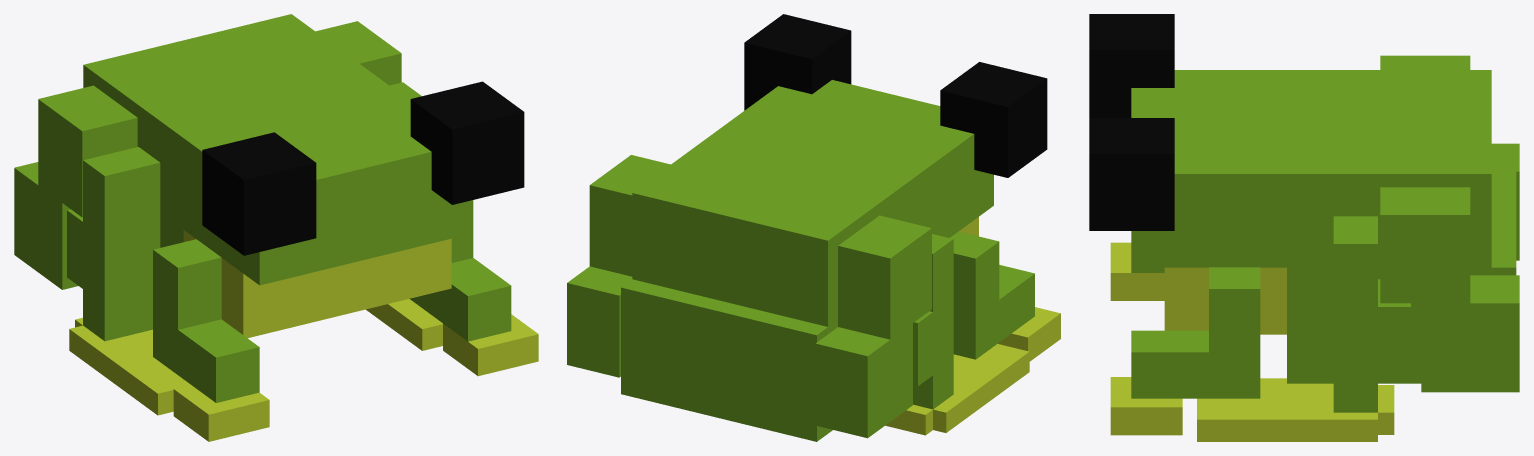
The model's file is frog.FBX.
The picture shows the model from 3 angles, left to right: view 1: azimuth 30°, elevation 25°; view 2: azimuth 150°, elevation 25°; view 3: azimuth 270°, elevation 25°; orthographic projection. The views are drawn at different scales.
Parts seen in each view (by area): view 1: frog_body, frog_eyes, frog_calf_L001, frog_hand_L001, frog_thigh_L001, frog_hand_L, frog_thigh_L, frog_calf_L; view 2: frog_body, frog_thigh_L001, frog_eyes, frog_thigh_L, frog_calf_L001, frog_hand_L001; view 3: frog_body, frog_thigh_L, frog_calf_L, frog_eyes, frog_hand_L, frog_hand_L001, frog_thigh_L001.
Part boxes in pixels (x1,y1,x2,y2): frog_body: [83, 14, 467, 338]; frog_eyes: [202, 81, 524, 255]; frog_calf_L001: [67, 147, 190, 415]; frog_hand_L001: [153, 239, 269, 441]; frog_thigh_L001: [14, 85, 137, 289]; frog_hand_L: [409, 200, 538, 376]; frog_thigh_L: [315, 21, 401, 85]; frog_calf_L: [366, 82, 442, 350]; frog_body: [621, 80, 993, 441]; frog_thigh_L001: [815, 215, 931, 438]; frog_eyes: [744, 14, 1047, 177]; frog_thigh_L: [567, 155, 670, 377]; frog_calf_L001: [885, 234, 1029, 435]; frog_hand_L001: [950, 231, 1060, 361]; frog_body: [1131, 70, 1516, 383]; frog_thigh_L: [1380, 187, 1519, 392]; frog_calf_L: [1197, 216, 1410, 441]; frog_eyes: [1089, 14, 1174, 230]; frog_hand_L: [1110, 267, 1260, 435]; frog_hand_L001: [1110, 242, 1164, 300]; frog_thigh_L001: [1380, 55, 1519, 260].
Bounding box in the file's own units: 80.08 × 58.41 × 83.9.
